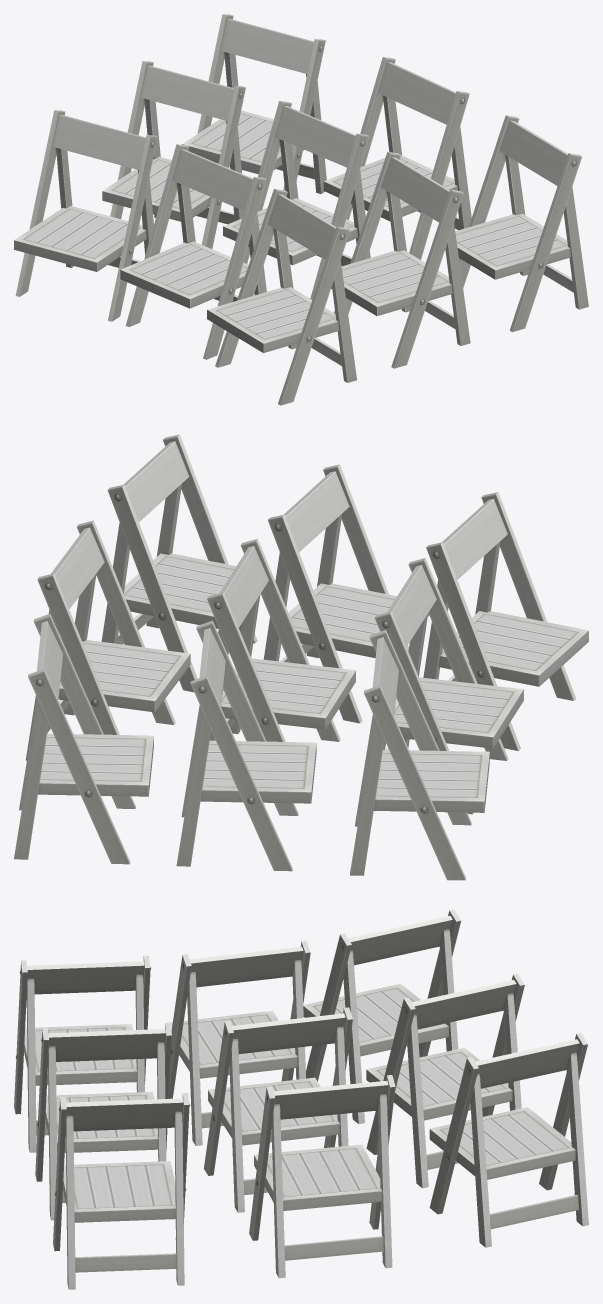
File: my_ariussummer_01_seat_01.glb
3 renders of one model, top to bottom at view 1: azimuth 30°, elevation 25°; view 2: azimuth 150°, elevation 25°; view 3: azimuth 270°, elevation 25°, orthographic. The views are drawn at different scales.
Parts seen in each view (by area): view 1: my_ariussummer_01_seat_01; view 2: my_ariussummer_01_seat_01; view 3: my_ariussummer_01_seat_01.
Boxes of the visible parts, left/top/right/bottom form: my_ariussummer_01_seat_01: left=14, top=14, right=588, bottom=405; my_ariussummer_01_seat_01: left=14, top=434, right=588, bottom=880; my_ariussummer_01_seat_01: left=14, top=909, right=588, bottom=1289.
Size of the model in its own units: 0.0171 by 0.0061 by 0.0176.
1 material, 1 textured.
